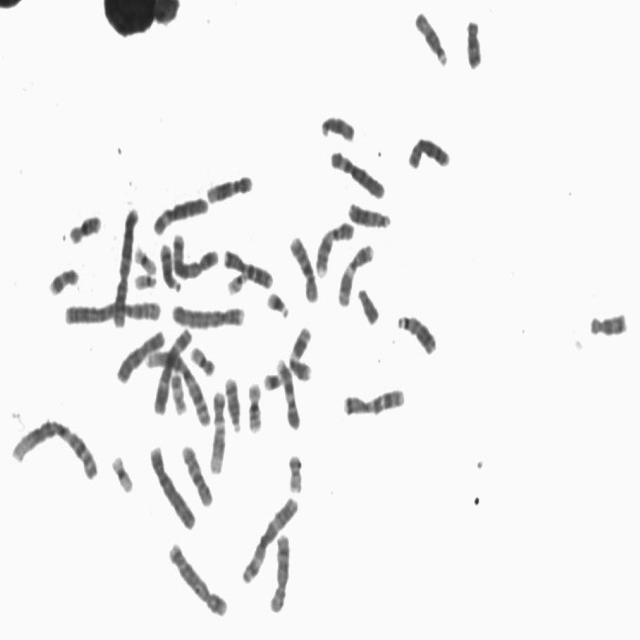A1: (7, 412, 102, 482), (143, 342, 212, 428)
A2: (109, 199, 142, 329), (59, 292, 164, 327)
A3: (238, 490, 301, 586), (149, 322, 194, 416)
B4: (146, 438, 198, 532), (168, 296, 248, 330)
B5: (165, 535, 230, 619), (169, 227, 221, 280)
C10: (286, 228, 322, 304), (178, 438, 215, 508)
C11: (335, 236, 376, 308), (286, 320, 315, 383)
C12: (205, 385, 228, 475), (203, 167, 256, 205)
C6: (326, 144, 388, 200), (149, 190, 211, 237)
C7: (220, 243, 276, 290), (339, 380, 407, 418)
C8: (266, 526, 292, 614), (404, 129, 452, 171)
C9: (312, 214, 357, 278), (273, 352, 303, 431)
D13: (394, 307, 439, 357), (345, 195, 393, 230)
D14: (156, 237, 184, 292), (221, 371, 244, 434)
D15: (411, 4, 451, 68), (318, 107, 358, 143)
E16: (64, 207, 104, 246), (244, 376, 265, 434)
E17: (45, 260, 81, 297), (167, 366, 189, 417)
E18: (587, 304, 630, 338), (462, 12, 485, 71)
F19: (108, 448, 136, 494), (130, 240, 158, 276)
F20: (187, 340, 217, 377), (284, 448, 305, 494)
G21: (263, 285, 292, 319), (260, 366, 284, 392)
G22: (223, 266, 250, 296), (131, 267, 158, 290)
X: (112, 323, 168, 385)
Y: (354, 281, 382, 327)
